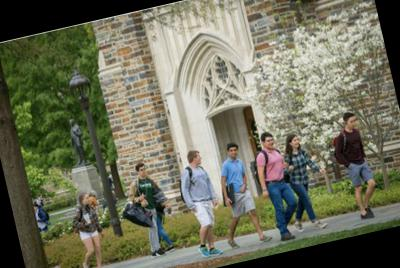without_mask: (263, 136, 276, 149), (346, 117, 359, 130), (229, 146, 240, 160), (290, 136, 301, 149), (195, 152, 204, 164), (139, 166, 148, 177), (84, 194, 92, 204)
